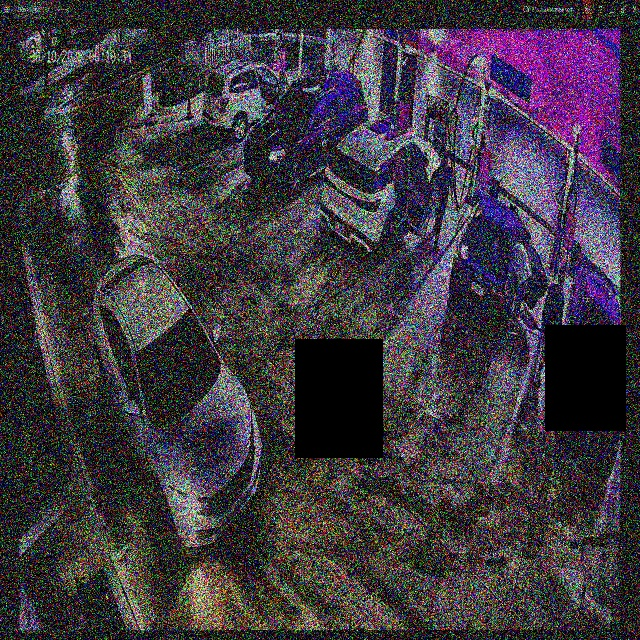Car: (88, 249, 263, 544), (322, 120, 443, 259), (242, 65, 367, 192), (448, 193, 527, 335), (203, 58, 297, 142)
